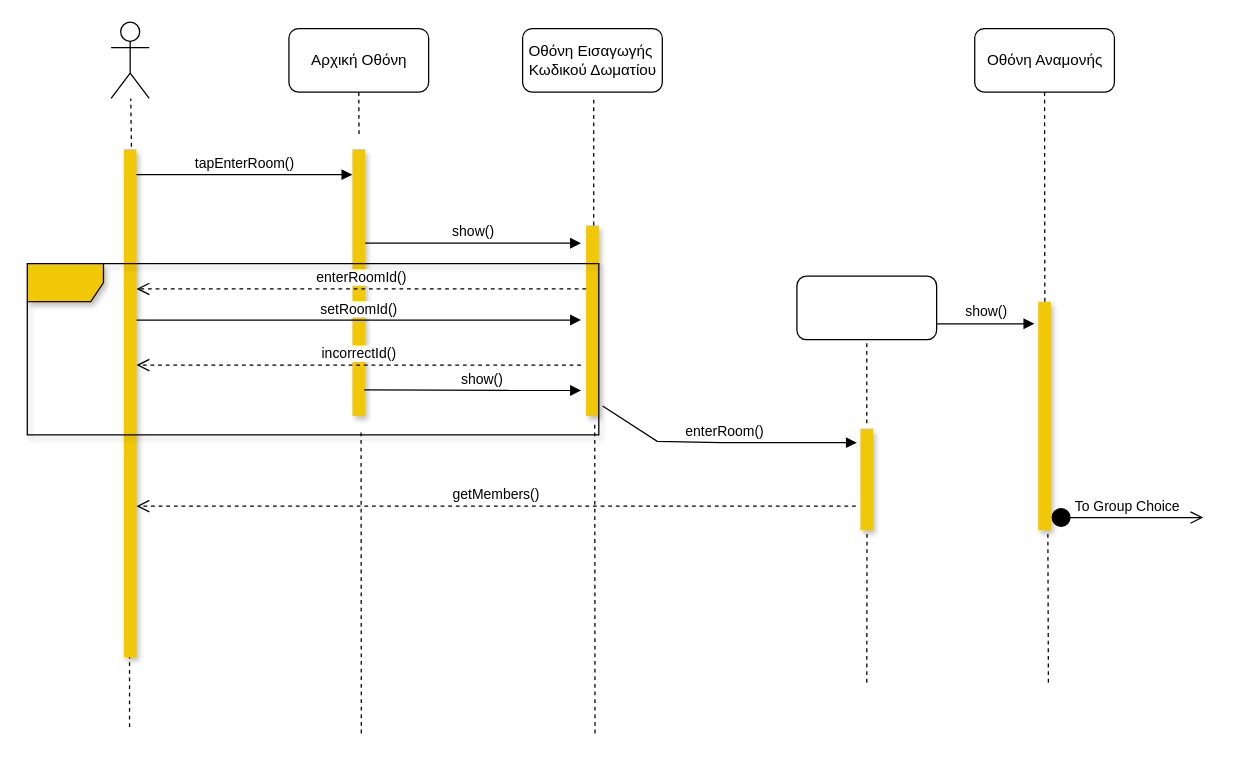
Some shapes in this 1238 by 757 pixel diagram are drawn without their labels. Each missing label, with the centre of its shape:
":Room" belongs at [866,307].
"Alt" belongs at [313,350].
